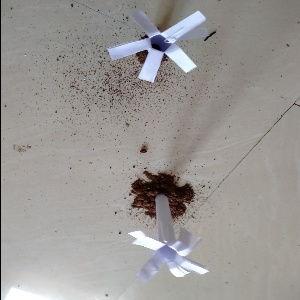weed: (105, 8, 201, 95), (130, 190, 206, 280)
